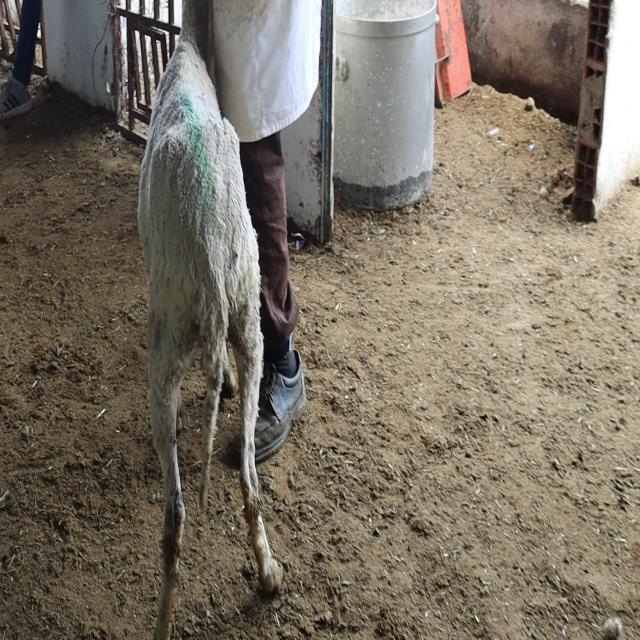Score_1: (138, 0, 283, 639)
